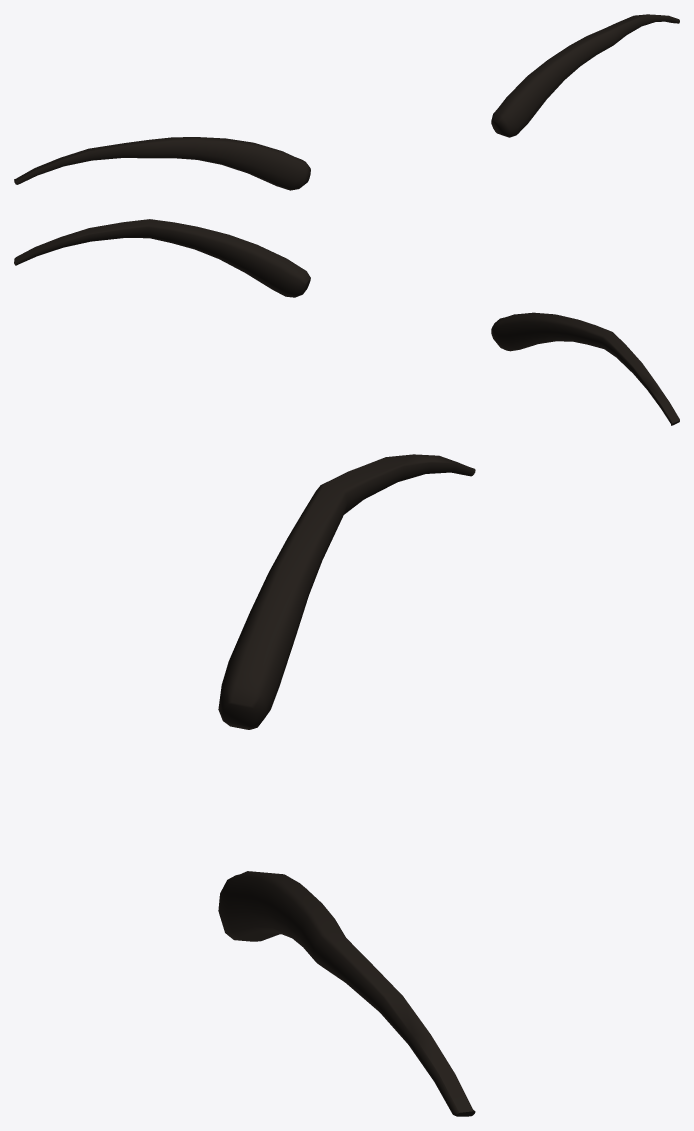
File: Eyebrows_29_01.fbx
3 renders of one model, top to bottom at view 1: azimuth 30°, elevation 25°; view 2: azimuth 150°, elevation 25°; view 3: azimuth 270°, elevation 25°, orthographic. The views are drawn at different scales.
Visible parts, largest first — view 1: Eyebrows_29_01; view 2: Eyebrows_29_01; view 3: Eyebrows_29_01.
Boxes of the visible parts, box(x1,y1,x2,y2) form: Eyebrows_29_01: box(14, 14, 679, 190); Eyebrows_29_01: box(14, 219, 679, 425); Eyebrows_29_01: box(218, 454, 475, 1116).
Bounding box in the file's own units: 19.88 × 1.77 × 3.33.
